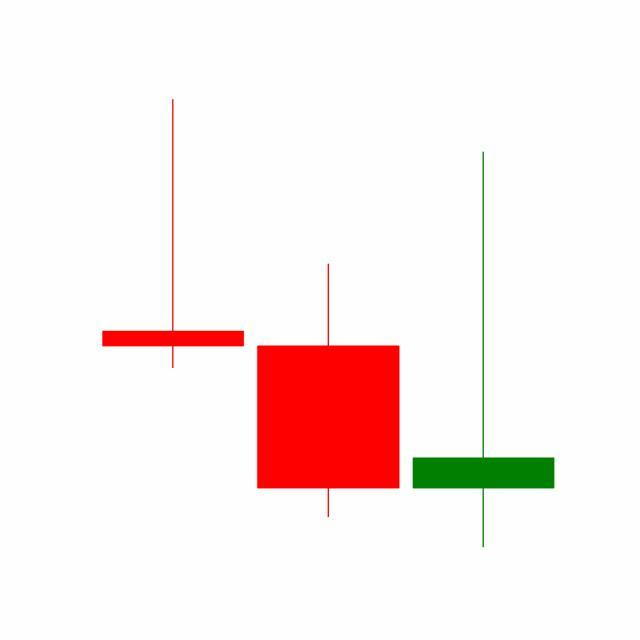Spinning Top: (406, 147, 562, 552)
